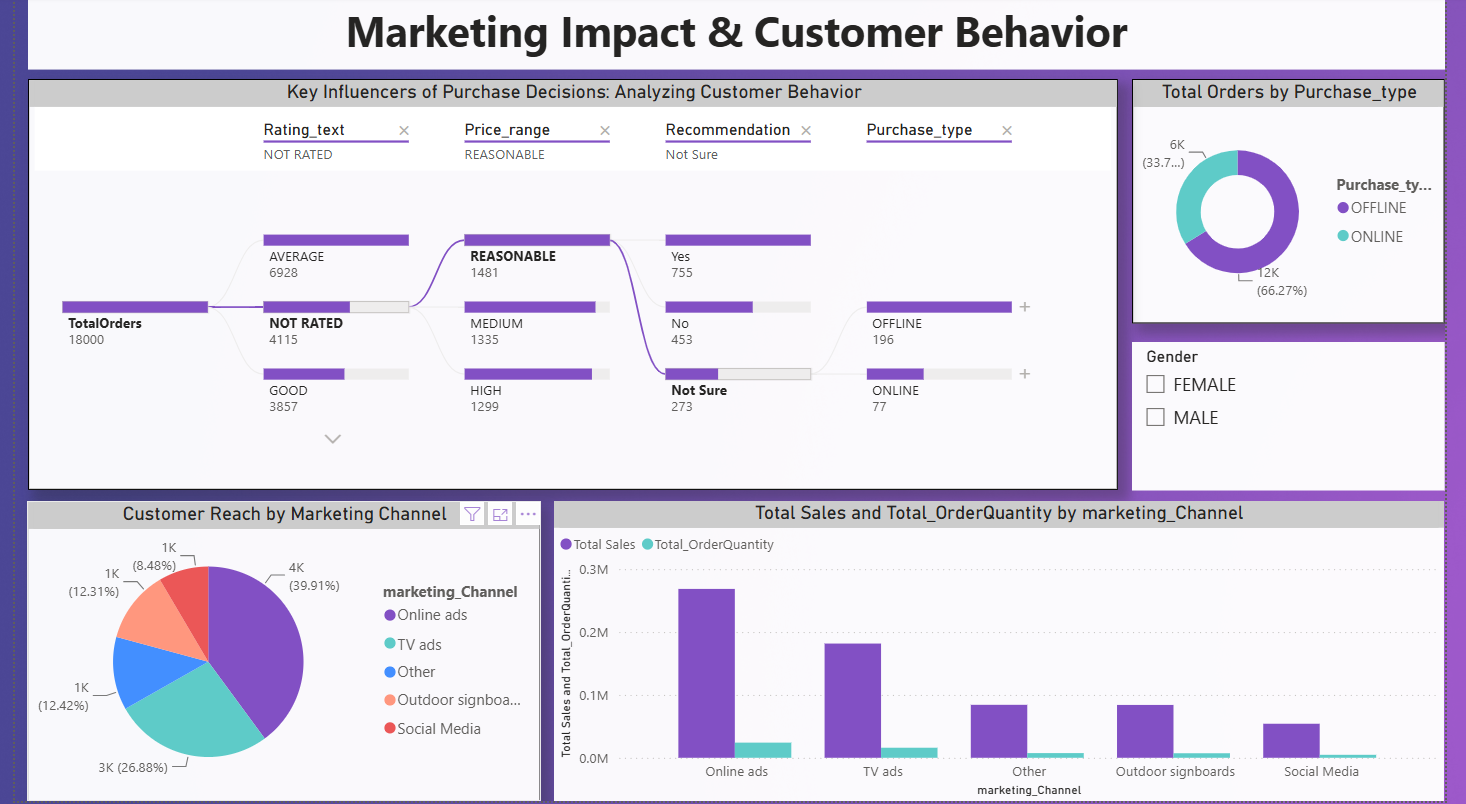

This screenshot's page, from the dashboard's own definition file:
{"tool":"powerbi","page":{"name":"Marketing Impact & Customer Behavior","canvas":[1280,720],"ordinal":2},"visuals":[{"type":"donutChart","title":"Total Orders by Purchase_type","fields":{"Category":["Fact_Order Details.Purchase_type"],"Y":["DAX Measures.TotalOrders"]},"box":[1000,73.8,280,218.8],"z":0},{"type":"decompositionTreeVisual","title":"Key Influencers of Purchase Decisions: Analyzing Customer Behavior","fields":{"ExplainBy":["Fact_Order Details.Rating_text","Fact_Order Details.Price_range","Fact_Order Details.Recommendation","Fact_Order Details.Purchase_type","Fact_Order Details.marketing_Channel"],"Analyze":["DAX Measures.TotalOrders"]},"box":[11.2,73.8,976.2,367.5],"z":1000},{"type":"pieChart","title":"Customer Reach by Marketing Channel","fields":{"Category":["Fact_Order Details.marketing_Channel"],"Y":["DAX Measures.TotalCustomersByChannel"]},"box":[11,451.5,459.7,269],"z":2000},{"type":"clusteredColumnChart","fields":{"Y":["DAX Measures.Total Sales","DAX Measures.Total_OrderQuantity"],"Category":["Fact_Order Details.marketing_Channel"]},"box":[483,451.5,797.3,269],"z":3000},{"type":"textbox","box":[11.2,0,1268.8,65],"z":4000},{"type":"slicer","fields":{"Values":["Dim_Customers.Gender"]},"box":[1000,308.8,280,132.5],"z":5000}]}

Visuals, with their boxes in screenshot pixels (x1, y1, x2, y2), scaled from the page's 1280x720 canvas onto the 1466x804 screenshot:
"Total Orders by Purchase_type" donutChart: detection(1145, 82, 1465, 327)
"Key Influencers of Purchase Decisions: Analyzing Customer Behavior" decompositionTreeVisual: detection(13, 82, 1131, 493)
"Customer Reach by Marketing Channel" pieChart: detection(13, 504, 539, 803)
clusteredColumnChart - DAX Measures.Total Sales x DAX Measures.Total_OrderQuantity: detection(553, 504, 1465, 803)
textbox: detection(13, 0, 1465, 73)
slicer - Dim_Customers.Gender: detection(1145, 345, 1465, 493)
